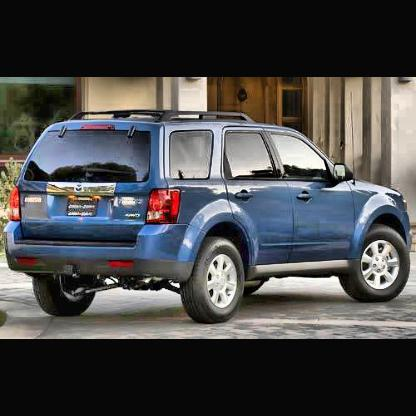Mazda Tribute SUV 2011: (3, 108, 413, 325)
